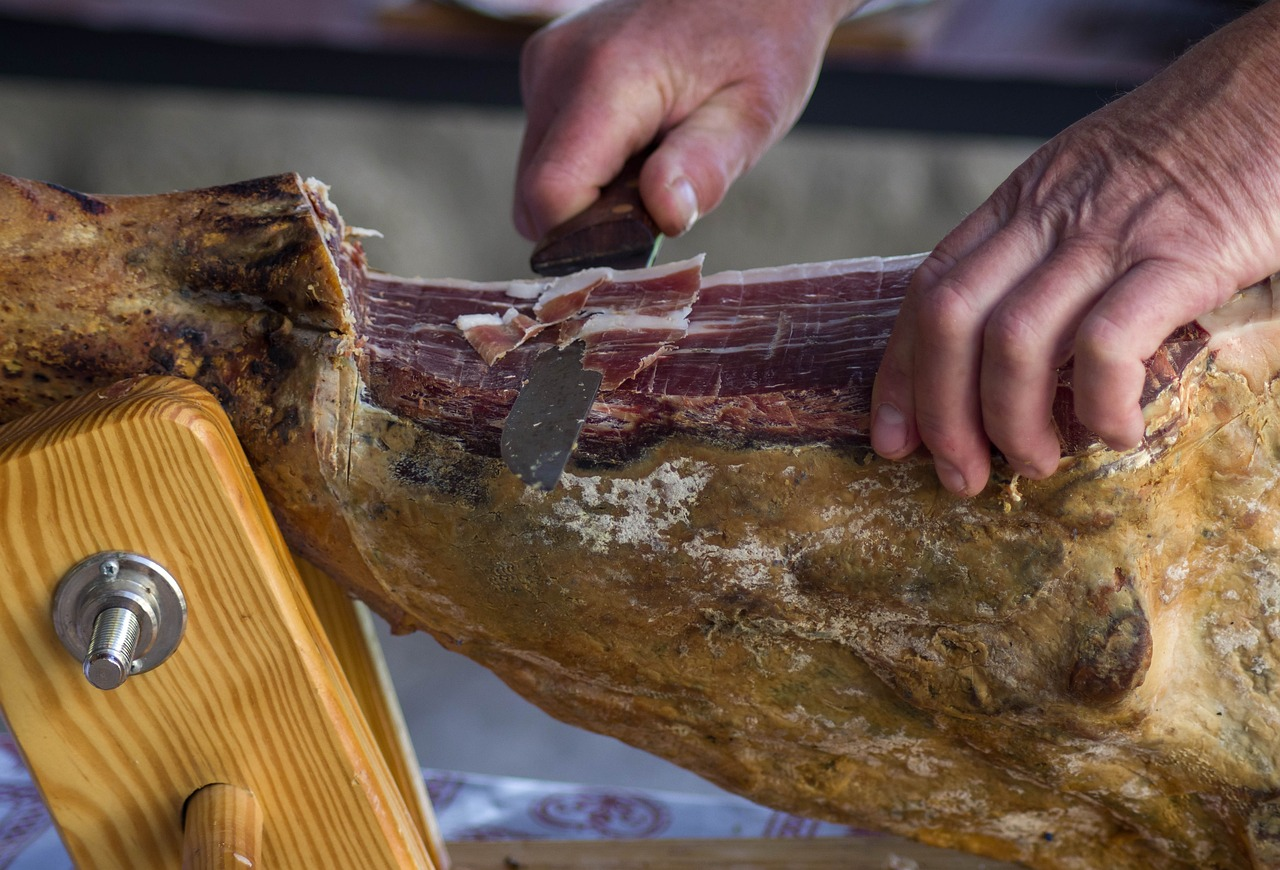knife: (496, 151, 668, 498)
